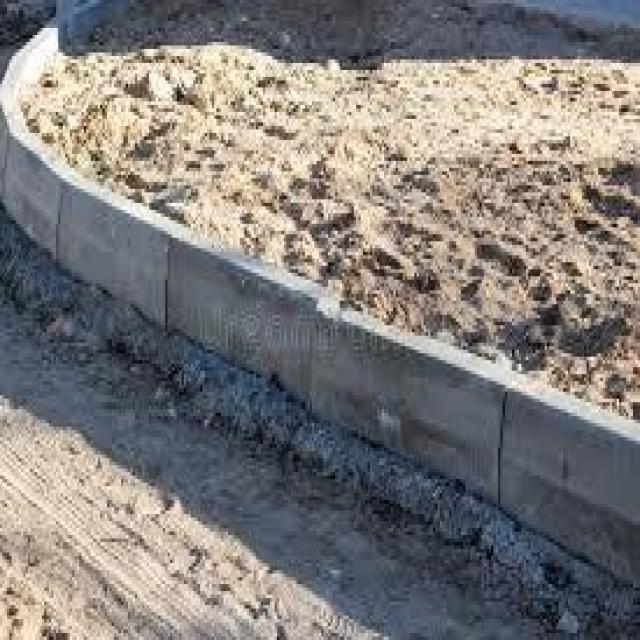bump: (142, 178, 640, 552), (0, 28, 183, 312)
